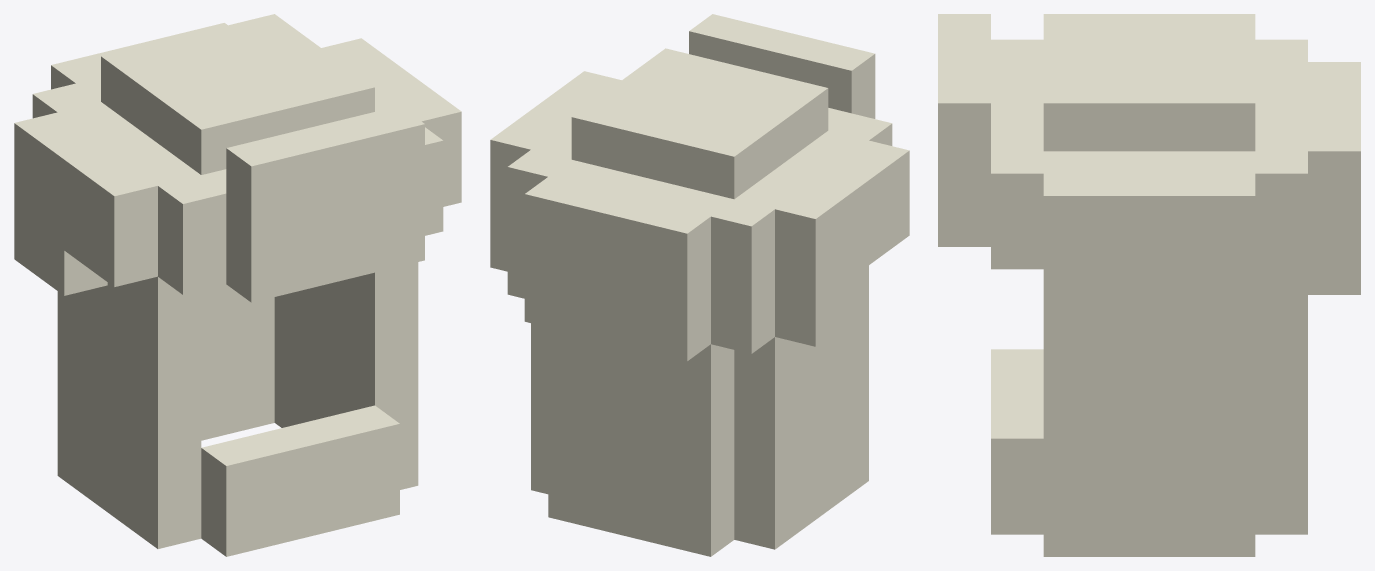
The model's file is char-37-helm_lgt_1f_sh.obj.
3 renders of one model, left to right at view 1: azimuth 30°, elevation 25°; view 2: azimuth 150°, elevation 25°; view 3: azimuth 270°, elevation 25°, orthographic. The views are drawn at different scales.
Visible parts, largest first — view 1: helm_lgt_1f_sh; view 2: helm_lgt_1f_sh; view 3: helm_lgt_1f_sh.
Part boxes in pixels (left/top/right/bottom): helm_lgt_1f_sh: left=14, top=14, right=461, bottom=556; helm_lgt_1f_sh: left=490, top=14, right=909, bottom=556; helm_lgt_1f_sh: left=938, top=14, right=1360, bottom=556.
Bounding box in the file's own units: 0.8 × 0.9 × 0.8.
1 material, 1 textured.
